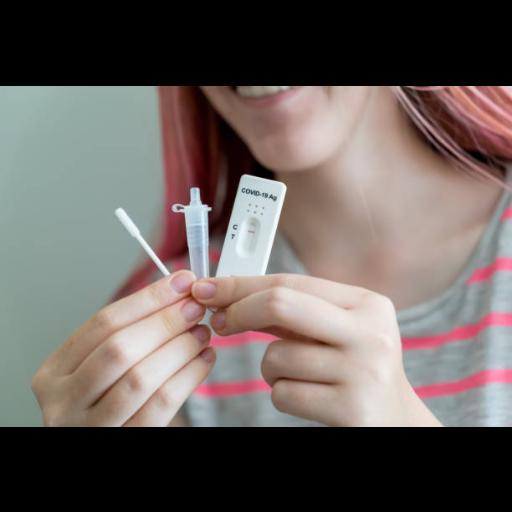Neg: (217, 173, 286, 275)
